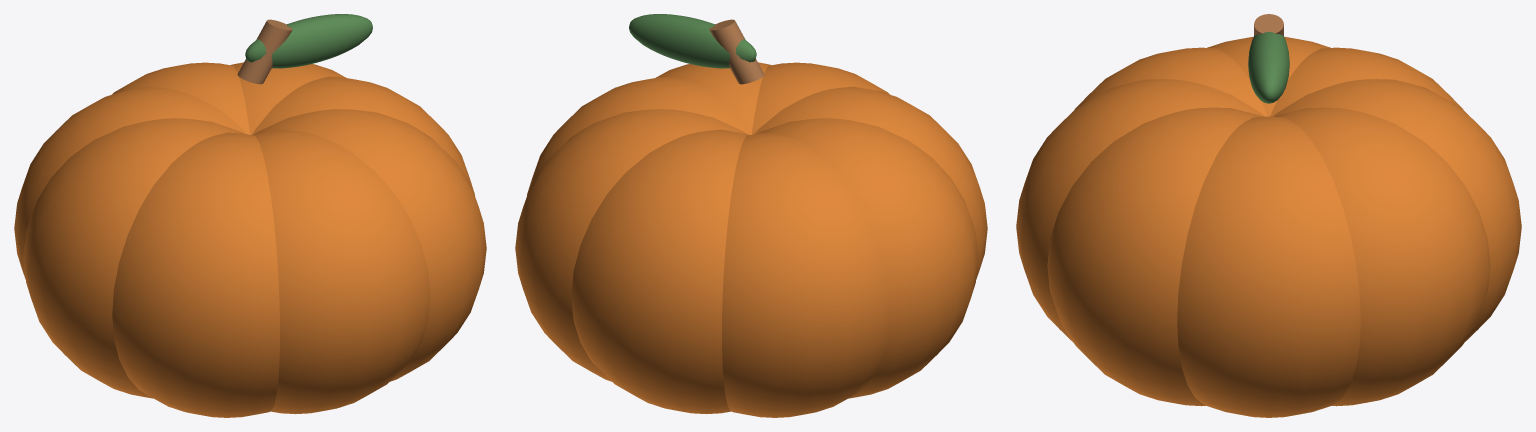
Rendered from wp-potiron.glb.
3 views of the same model, side by side, from view 1: azimuth 30°, elevation 25°; view 2: azimuth 150°, elevation 25°; view 3: azimuth 270°, elevation 25° (orthographic). The views are drawn at different scales.
Parts seen in each view (by area): view 1: wp-potiron; view 2: wp-potiron; view 3: wp-potiron.
Boxes of the visible parts, <box> form: wp-potiron: <box>14,14,486,417</box>; wp-potiron: <box>515,14,987,417</box>; wp-potiron: <box>1016,14,1521,417</box>.
Size of the model in its own units: 0.32 by 0.25 by 0.32.
